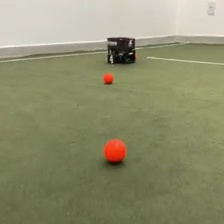ball: (102, 137, 127, 164), (102, 71, 114, 83)
robot: (106, 35, 137, 64)
